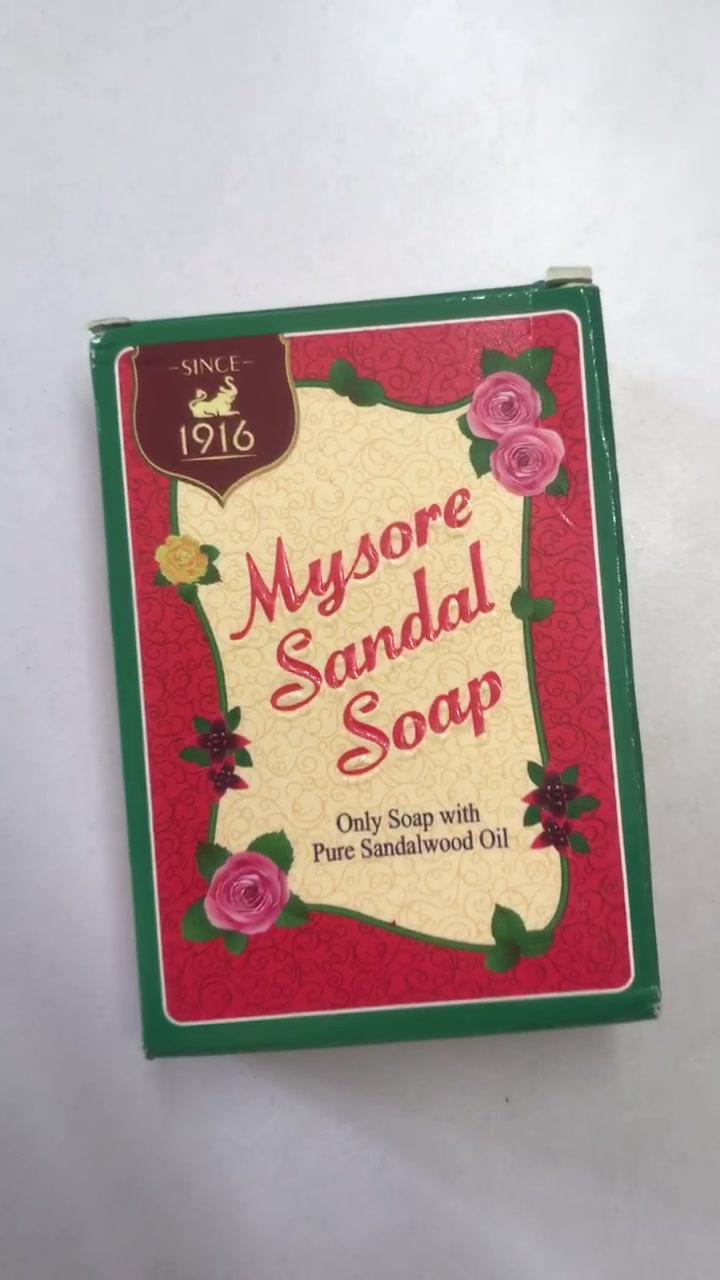mysore sandal soap: (98, 303, 663, 1049)
